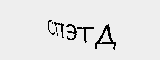Д: (93, 22, 118, 53)
П: (54, 19, 67, 40)
С: (47, 16, 54, 39)
Т: (75, 24, 93, 43)
Э: (65, 22, 78, 42)
